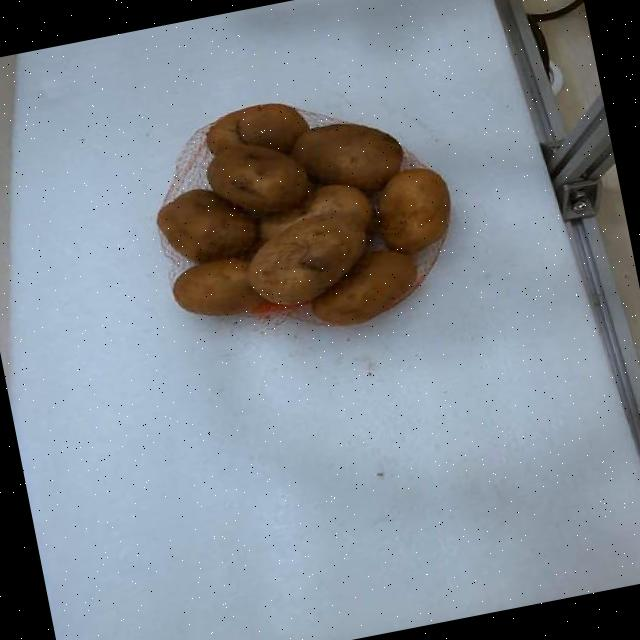potato: (246, 213, 367, 304), (313, 249, 416, 323), (291, 123, 401, 191), (157, 188, 256, 262), (207, 145, 311, 214), (377, 167, 450, 252), (173, 257, 263, 315), (237, 103, 308, 152), (306, 183, 373, 226), (206, 110, 246, 153), (259, 207, 304, 240)
